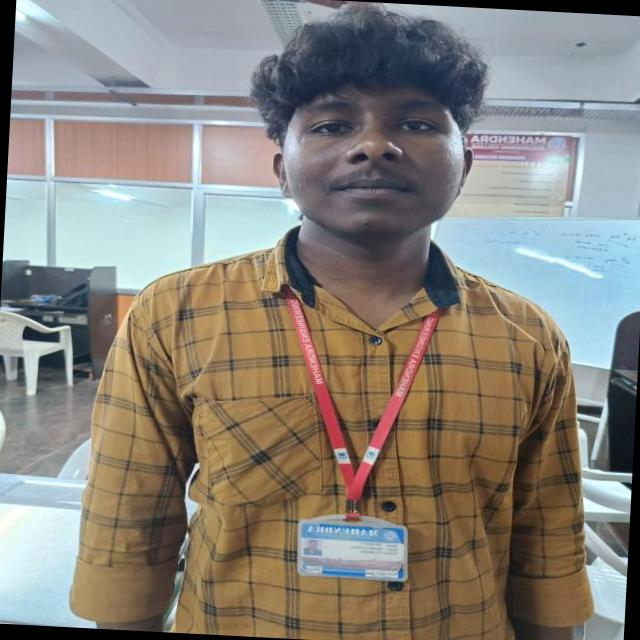id_card: (270, 292, 444, 583)
